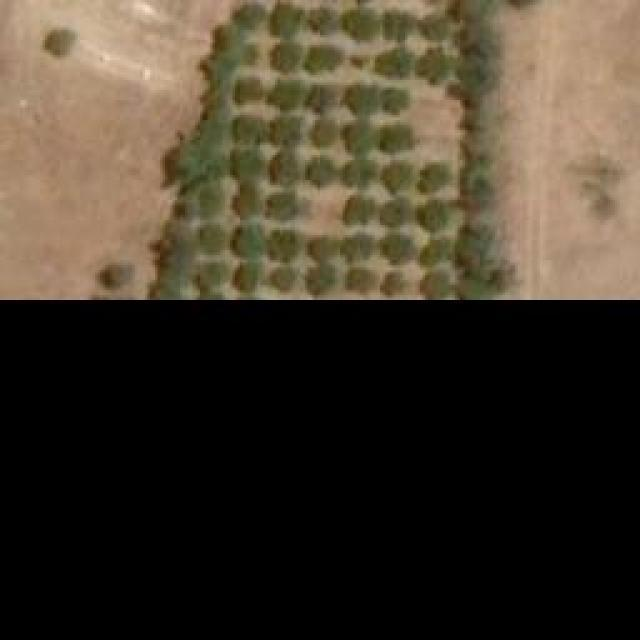Tree: (456, 222, 507, 275), (156, 135, 208, 183), (452, 268, 504, 301), (373, 50, 413, 80), (195, 217, 223, 255), (103, 263, 138, 293), (268, 3, 298, 36), (343, 10, 376, 40), (343, 120, 373, 153), (233, 225, 263, 258), (415, 200, 445, 233), (45, 23, 73, 58), (308, 45, 341, 73), (350, 78, 378, 111), (197, 185, 225, 218), (420, 233, 448, 266), (188, 262, 221, 290), (233, 0, 263, 30), (305, 80, 335, 110), (230, 153, 260, 183), (383, 160, 413, 190), (418, 163, 448, 193), (268, 233, 298, 263), (383, 233, 413, 263), (270, 80, 300, 108), (310, 115, 338, 145), (270, 155, 298, 185), (343, 197, 373, 225), (340, 232, 370, 260), (308, 155, 333, 188), (233, 183, 258, 216), (385, 10, 413, 38), (267, 42, 295, 70), (232, 40, 260, 68), (232, 115, 260, 143), (270, 115, 298, 143), (382, 125, 410, 153), (423, 50, 448, 80), (345, 160, 373, 185), (270, 193, 298, 218), (378, 197, 403, 225), (302, 268, 330, 293), (265, 268, 293, 293), (380, 270, 405, 295), (420, 15, 445, 40), (313, 8, 336, 33), (238, 78, 261, 103), (345, 268, 370, 291), (385, 88, 408, 111), (420, 270, 443, 293), (310, 238, 330, 261), (235, 265, 255, 288), (350, 55, 365, 70)
